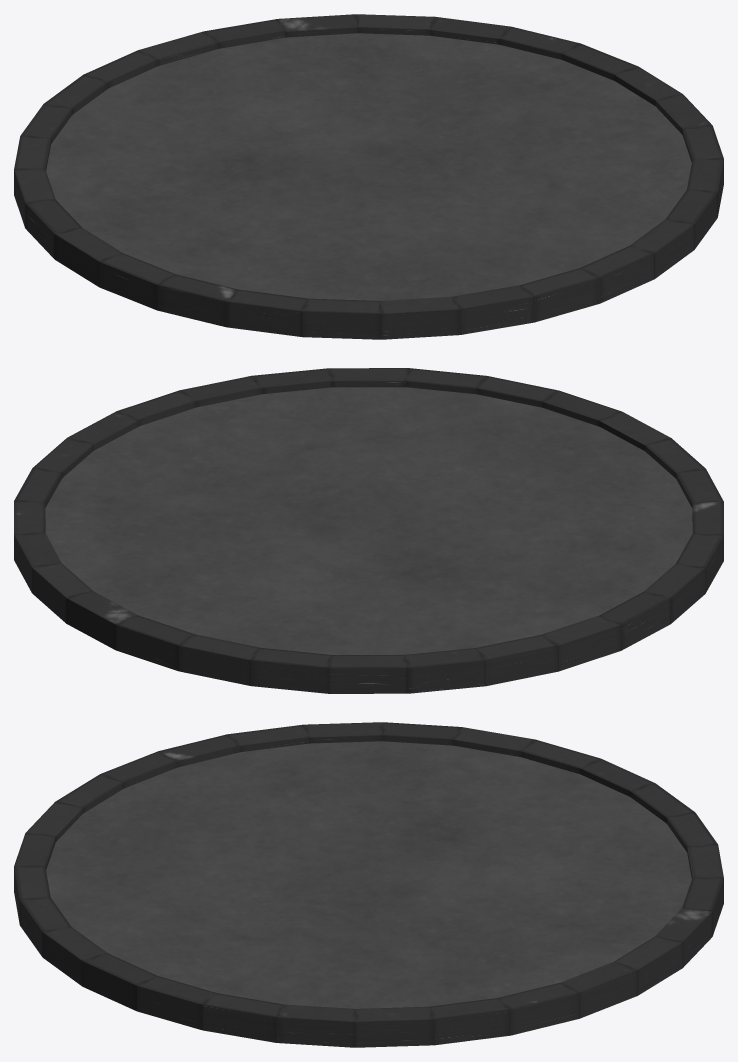
Rendered from stage.obj.
The picture shows the model from 3 angles, top to bottom: view 1: azimuth 30°, elevation 25°; view 2: azimuth 150°, elevation 25°; view 3: azimuth 270°, elevation 25°; orthographic projection.
Parts seen in each view (by area): view 1: 円柱; view 2: 円柱; view 3: 円柱.
Boxes of the visible parts, x1=… form: 円柱: x1=14, y1=14, x2=723, y2=339; 円柱: x1=14, y1=368, x2=723, y2=693; 円柱: x1=14, y1=722, x2=723, y2=1047.
Size of the model in its own units: 2.09 by 0.0829 by 2.09.
